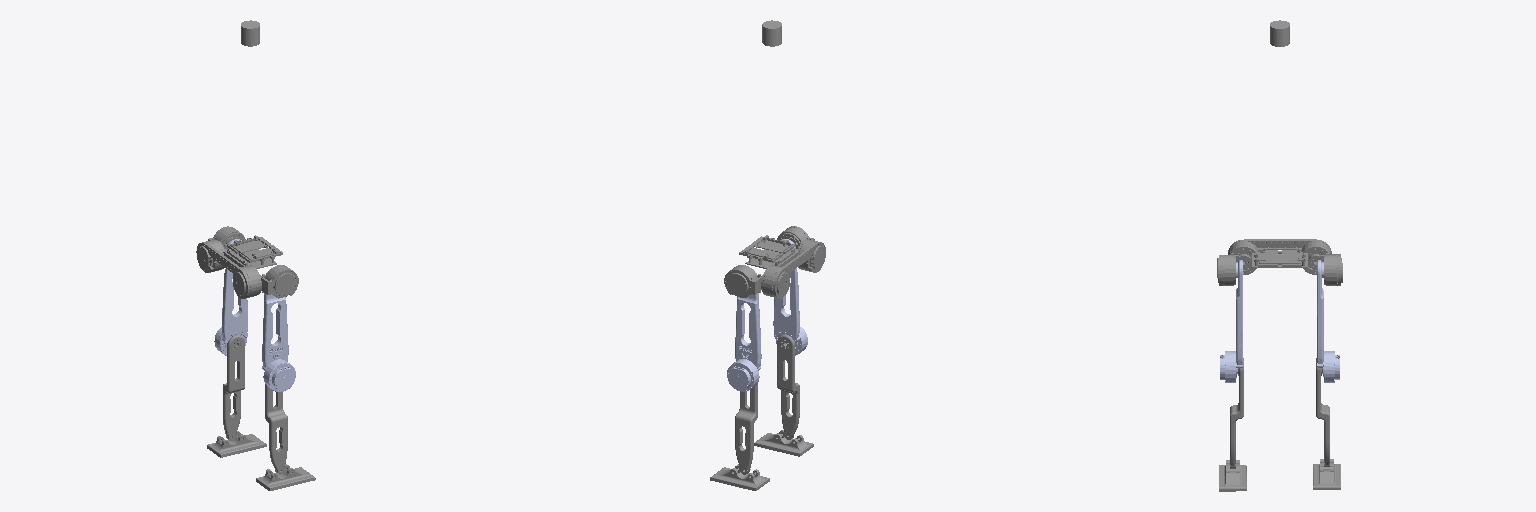
The robot description file, URDF, robot "onshape":
<robot name="onshape">
  <link name="assembled_base">
    <visual>
      <origin xyz="0 0 0" rpy="0 -0 0" />
      <geometry>
        <mesh filename="../meshes/assembled_base.stl"/>
      </geometry>
      <material name="assembled_base_material">
        <color rgba="0.62745098039215685404 0.62745098039215685404 0.62745098039215685404 1.0"/>
      </material>
    </visual>
    <collision>
      <origin xyz="0 0 0" rpy="0 -0 0" />
      <geometry>
        <!-- <mesh filename="../meshes/assembled_base.stl"/> -->
        <box size="0.2 0.1 0.1"/>
      </geometry>
    </collision>
    <inertial>
      <origin xyz="-0.049856134971238051656 -0.00017975093297010582617 -0.012053466787614769071" rpy="0 0 0"/>
      <mass value="1.2750789266545345946" />
      <inertia ixx="0.0093561396750067183509" ixy="2.5170719498942932795e-05" ixz="-0.00029179742923617036851" iyy="0.0017119096464284844824" iyz="-3.7813300202946274525e-06" izz="0.0098753910433889216525" />
    </inertial>
  </link>

  <link name="additional_weight">
    <visual>
      <origin xyz="-6.9388939039072283776e-18 -8.4703294725430033907e-22 -0.050000000000000266454" rpy="3.141592653589793116 -0 0" />
      <geometry>
        <mesh filename="../meshes/additional_weight.stl"/>
      </geometry>
      <material name="additional_weight_material">
        <color rgba="0.64705882352941179736 0.64705882352941179736 0.64705882352941179736 1.0"/>
      </material>
    </visual>
    <collision>
      <origin xyz="-6.9388939039072283776e-18 -8.4703294725430033907e-22 -0.050000000000000266454" rpy="3.141592653589793116 -0 0" />
      <geometry>
        <mesh filename="../meshes/additional_weight.stl"/>
      </geometry>
    </collision>
    <inertial>
      <origin xyz="-5.7190546223683737574e-18 -8.470329472542528491e-22 -0.025000000000000022204" rpy="0 0 0"/>
      <mass value="0.79579314812178392202" />
      <inertia ixx="0.00029130794056903707876" ixy="0" ixz="0" iyy="0.00029130794056903707876" iyz="0" izz="0.00025103540275399723785" />
    </inertial>
  </link>

  <joint name="additional_weight_joint" type="fixed">
    <origin xyz="0.0017373457116546199477 4.8047933443529507216e-06 0.60299999999999998046" rpy="-3.141592653589793116 -1.6568748037485875154e-19 -2.0219008759515637583e-35" />
    <parent link="assembled_base" />
    <child link="additional_weight" />
    <axis xyz="0 0 1"/>
    <limit effort="40" velocity="7" />
    <joint_properties friction="0.0"/>
  </joint>

  <link name="left_hip_roll_assembled_link">
    <visual>
      <origin xyz="-1.3877787807814456755e-17 -2.7755575615628913511e-17 0" rpy="2.2841213229054533402e-20 4.3368086899419994397e-19 9.8607613152626497572e-32" />
      <geometry>
        <mesh filename="../meshes/left_hip_roll_assembled_link.stl"/>
      </geometry>
      <material name="left_hip_roll_assembled_link_material">
        <color rgba="0.62745098039215685404 0.62745098039215685404 0.62745098039215685404 1.0"/>
      </material>
    </visual>
    <collision>
      <origin xyz="-1.3877787807814456755e-17 -2.7755575615628913511e-17 0" rpy="2.2841213229054533402e-20 4.3368086899419994397e-19 9.8607613152626497572e-32" />
      <geometry>
        <mesh filename="../meshes/left_hip_roll_assembled_link.stl"/>
      </geometry>
    </collision>
    <inertial>
      <origin xyz="-0.038199108326162301008 0.00055603061731506766251 -0.049872228042224388267" rpy="0 0 0"/>
      <mass value="0.53489494813292881581" />
      <inertia ixx="0.00052969452284193396015" ixy="3.26180324706647247e-06" ixz="-5.8674863193901638839e-05" iyy="0.00044896593371919973165" iyz="1.6739468731426171244e-06" izz="0.00030547079016642378867" />
    </inertial>
  </link>

  <link name="left_thigh_assembled_link">
    <visual>
      <origin xyz="-1.7347234759768070944e-17 0 9.8532293435482642963e-16" rpy="0 -5.0389663808307754041e-19 8.2718061255302785854e-25" />
      <geometry>
        <mesh filename="../meshes/left_thigh_assembled_link.stl"/>
      </geometry>
      <material name="left_thigh_assembled_link_material">
        <color rgba="0.79215686274509800047 0.81960784313725487671 0.93333333333333334814 1.0"/>
      </material>
    </visual>
    <collision>
      <origin xyz="-1.7347234759768070944e-17 0 9.8532293435482642963e-16" rpy="0 -5.0389663808307754041e-19 8.2718061255302785854e-25" />
      <geometry>
        <mesh filename="../meshes/left_thigh_assembled_link.stl"/>
      </geometry>
    </collision>
    <inertial>
      <origin xyz="-0.00071215583978635863156 0.18551885792314248835 1.7552695534359159536e-05" rpy="0 0 0"/>
      <mass value="0.3804247757723297485" />
      <inertia ixx="0.0034227563688772068805" ixy="-8.0243175043628227008e-06" ixz="-2.8600536926204267421e-06" iyy="0.00022462832370740977266" iyz="-0.00032454380195049608096" izz="0.0035001644173184090492" />
    </inertial>
  </link>

  <link name="left_shin">
    <visual>
      <origin xyz="-6.9388939039072283776e-18 5.5511151231257827021e-17 -2.7755575615628913511e-17" rpy="-3.141592653589793116 7.0215672787891816785e-20 -4.0325054861960106497e-24" />
      <geometry>
        <mesh filename="../meshes/left_shin.stl"/>
      </geometry>
      <material name="left_shin_material">
        <color rgba="0.62745098039215685404 0.62745098039215685404 0.62745098039215685404 1.0"/>
      </material>
    </visual>
    <collision>
      <origin xyz="-6.9388939039072283776e-18 5.5511151231257827021e-17 -2.7755575615628913511e-17" rpy="-3.141592653589793116 7.0215672787891816785e-20 -4.0325054861960106497e-24" />
      <geometry>
        <mesh filename="../meshes/left_shin.stl"/>
      </geometry>
    </collision>
    <inertial>
      <origin xyz="-0.00027860297896301457546 -0.12257037293542828726 -0.0023367562260510972745" rpy="0 0 0"/>
      <mass value="0.18385415329439019905" />
      <inertia ixx="0.0011911868638529135751" ixy="-5.8844952216253818683e-06" ixz="-5.5717279343409244683e-07" iyy="6.0811306287211696025e-05" iyz="-0.00012578436368043246292" izz="0.0012070183815175716813" />
    </inertial>
  </link>

  <link name="left_foot">
    <visual>
      <origin xyz="0 -1.1102230246251565404e-16 2.7755575615628913511e-17" rpy="-3.3881317890172021086e-21 -6.2128193301782472105e-19 9.1506855263678701226e-24" />
      <geometry>
        <mesh filename="../meshes/left_foot.stl"/>
      </geometry>
      <material name="left_foot_material">
        <color rgba="0.62745098039215685404 0.62745098039215685404 0.62745098039215685404 1.0"/>
      </material>
    </visual>
    <collision>
      <origin xyz="0 -1.1102230246251565404e-16 2.7755575615628913511e-17" rpy="-3.3881317890172021086e-21 -6.2128193301782472105e-19 9.1506855263678701226e-24" />
      <geometry>
        <mesh filename="../meshes/left_foot.stl"/>
      </geometry>
    </collision>
    <inertial>
      <origin xyz="0.015187537197783738258 0.026002543054757576435 -0.00034050842926946741154" rpy="0 0 0"/>
      <mass value="0.14503328474795140757" />
      <inertia ixx="5.3255271906336900788e-05" ixy="-2.8142667452324447518e-06" ixz="9.3713679863158629659e-08" iyy="0.0002335908613945323817" iyz="1.9366104052540332956e-07" izz="0.0001950516649632677308" />
    </inertial>
  </link>

  <joint name="left_ankle_joint" type="revolute">
    <origin xyz="-0.0032963899599866147705 -0.26680321649979094056 -0.012956114963095885506" rpy="-3.1415926535897926719 -2.7346502719546166981e-16 3.8824481999271071847e-12" />
    <parent link="left_shin" />
    <child link="left_foot" />
    <axis xyz="0 0 1"/>
    <limit effort="40" velocity="7" lower="-0.52359877559829881566" upper="0.52359877559829881566"/>
    <joint_properties friction="0.0"/>
  </joint>

  <joint name="left_knee_joint" type="revolute">
    <origin xyz="-1.1791795445987435231e-05 0.26696937369610784785 -0.0055469999999987473771" rpy="-3.141592653589793116 6.0211425091664846854e-17 2.8257782194518543241e-21" />
    <parent link="left_thigh_assembled_link" />
    <child link="left_shin" />
    <axis xyz="0 0 1"/>
    <limit effort="40" velocity="7" lower="-0.87266462599716476678" upper="-0"/>
    <joint_properties friction="0.0"/>
  </joint>

  <joint name="left_hip_pitch_joint" type="revolute">
    <origin xyz="-0.020714482720959506712 -1.2195219323100914277e-06 -0.056302758297119864794" rpy="-3.1415746391819041605 1.5707963265842519451 0" />
    <parent link="left_hip_roll_assembled_link" />
    <child link="left_thigh_assembled_link" />
    <axis xyz="0 0 1"/>
    <limit effort="40" velocity="7" lower="-1.570796326794896558" upper="0.34906585039886589561"/>
    <joint_properties friction="0.0"/>
  </joint>

  <joint name="left_hip_roll_joint" type="revolute">
    <origin xyz="-0.041193597110977836495 0.089887544641074693108 -0.018310449527667391895" rpy="1.570796326794896558 -8.3266726846886681367e-16 -1.5680307395761954314" />
    <parent link="assembled_base" />
    <child link="left_hip_roll_assembled_link" />
    <axis xyz="0 0 1"/>
    <limit effort="40" velocity="7" lower="-0.26179938779914940783" upper="0.26179938779914940783"/>
    <joint_properties friction="0.0"/>
  </joint>

  <link name="right_hip_roll_assembled_link">
    <visual>
      <origin xyz="0 2.7755575615628913511e-17 0" rpy="7.2572312814300634511e-21 -2.6123619456511818528e-33 0" />
      <geometry>
        <mesh filename="../meshes/right_hip_roll_assembled_link.stl"/>
      </geometry>
      <material name="right_hip_roll_assembled_link_material">
        <color rgba="0.62745098039215685404 0.62745098039215685404 0.62745098039215685404 1.0"/>
      </material>
    </visual>
    <collision>
      <origin xyz="0 2.7755575615628913511e-17 0" rpy="7.2572312814300634511e-21 -2.6123619456511818528e-33 0" />
      <geometry>
        <mesh filename="../meshes/right_hip_roll_assembled_link.stl"/>
      </geometry>
    </collision>
    <inertial>
      <origin xyz="0.038199490336614662367 0.00055715423494521532696 -0.049969831391157862321" rpy="0 0 0"/>
      <mass value="0.53488105014710873863" />
      <inertia ixx="0.00053032850976867838225" ixy="-3.2670105505230184529e-06" ixz="5.8680153731445583551e-05" iyy="0.00044960376460740047707" iyz="2.1242914106338632407e-06" izz="0.00030546201872424670522" />
    </inertial>
  </link>

  <link name="right_thigh_assembled_link">
    <visual>
      <origin xyz="1.0408340855860842566e-17 2.4286128663675299322e-17 1.9428902930940239457e-16" rpy="3.3881317890172021086e-21 -2.3672414068765584227e-19 7.0560768072760710352e-24" />
      <geometry>
        <mesh filename="../meshes/right_thigh_assembled_link.stl"/>
      </geometry>
      <material name="right_thigh_assembled_link_material">
        <color rgba="0.79215686274509800047 0.81960784313725487671 0.93333333333333334814 1.0"/>
      </material>
    </visual>
    <collision>
      <origin xyz="1.0408340855860842566e-17 2.4286128663675299322e-17 1.9428902930940239457e-16" rpy="3.3881317890172021086e-21 -2.3672414068765584227e-19 7.0560768072760710352e-24" />
      <geometry>
        <mesh filename="../meshes/right_thigh_assembled_link.stl"/>
      </geometry>
    </collision>
    <inertial>
      <origin xyz="0.0007479706777348325928 -0.18551907050709309788 1.7546215448078449604e-05" rpy="0 0 0"/>
      <mass value="0.38042405171223225846" />
      <inertia ixx="0.0034227356035838180093" ixy="-7.4069946641123797775e-06" ixz="2.7974117379069971705e-06" iyy="0.00022462525406527009543" iyz="0.00032454443982513655857" izz="0.0035001405354723497294" />
    </inertial>
  </link>

  <link name="right_shin">
    <visual>
      <origin xyz="-6.9388939039072283776e-18 0 2.0816681711721685133e-16" rpy="-3.141592653589793116 -1.9695672135929445808e-19 1.5218830801268595112e-24" />
      <geometry>
        <mesh filename="../meshes/right_shin.stl"/>
      </geometry>
      <material name="right_shin_material">
        <color rgba="0.62745098039215685404 0.62745098039215685404 0.62745098039215685404 1.0"/>
      </material>
    </visual>
    <collision>
      <origin xyz="-6.9388939039072283776e-18 0 2.0816681711721685133e-16" rpy="-3.141592653589793116 -1.9695672135929445808e-19 1.5218830801268595112e-24" />
      <geometry>
        <mesh filename="../meshes/right_shin.stl"/>
      </geometry>
    </collision>
    <inertial>
      <origin xyz="0.00030226339259873649581 0.12257031691862123324 -0.0023367562129040955581" rpy="0 0 0"/>
      <mass value="0.18385415284334485908" />
      <inertia ixx="0.0011911845485189510429" ixy="-6.1026977045558477582e-06" ixz="5.8145360851608830142e-07" iyy="6.0813620228559065535e-05" iyz="0.00012578425382340395955" izz="0.0012070183800956654687" />
    </inertial>
  </link>

  <link name="right_foot">
    <visual>
      <origin xyz="0 -1.1102230246251565404e-16 1.3877787807814456755e-17" rpy="3.141592653589793116 1.064318367664878442e-18 -3.5215760551024649889e-24" />
      <geometry>
        <mesh filename="../meshes/right_foot.stl"/>
      </geometry>
      <material name="right_foot_material">
        <color rgba="0.62745098039215685404 0.62745098039215685404 0.62745098039215685404 1.0"/>
      </material>
    </visual>
    <collision>
      <origin xyz="0 -1.1102230246251565404e-16 1.3877787807814456755e-17" rpy="3.141592653589793116 1.064318367664878442e-18 -3.5215760551024649889e-24" />
      <geometry>
        <mesh filename="../meshes/right_foot.stl"/>
      </geometry>
    </collision>
    <inertial>
      <origin xyz="0.015187537190500212045 -0.026002543053895942754 0.00034050843220780990621" rpy="0 0 0"/>
      <mass value="0.14503328477161644972" />
      <inertia ixx="5.3255271913745654032e-05" ixy="2.8142667506415899532e-06" ixz="-9.3713660243795205391e-08" iyy="0.0002335908614515599523" iyz="1.936610380705449885e-07" izz="0.00019505166501422423002" />
    </inertial>
  </link>

  <joint name="right_ankle_joint" type="revolute">
    <origin xyz="0.0033478924446542577403 0.26680257520792799442 -0.01295611496309617694" rpy="3.141592653589793116 2.7996088473986045116e-16 2.0021163556764444259e-24" />
    <parent link="right_shin" />
    <child link="right_foot" />
    <axis xyz="0 0 1"/>
    <limit effort="40" velocity="7" lower="-0.52359877559829881566" upper="0.52359877559829881566"/>
    <joint_properties friction="0.0"/>
  </joint>

  <joint name="right_knee_joint" type="revolute">
    <origin xyz="6.3326415581058115301e-05 -0.26696936644585766985 -0.0055469999999988583994" rpy="-3.141592653589793116 -2.1487086728401866803e-17 2.3825871257081570997e-24" />
    <parent link="right_thigh_assembled_link" />
    <child link="right_shin" />
    <axis xyz="0 0 1"/>
    <limit effort="40" velocity="7" lower="-0" upper="0.87266462599716476678"/>
    <joint_properties friction="0.0"/>
  </joint>

  <joint name="right_hip_pitch_joint" type="revolute">
    <origin xyz="0.020714482720954302541 1.219252338362231125e-06 -0.056297241554987526024" rpy="1.8014408059877152129e-05 1.5707963267916837946 0" />
    <parent link="right_hip_roll_assembled_link" />
    <child link="right_thigh_assembled_link" />
    <axis xyz="0 0 1"/>
    <limit effort="40" velocity="7" lower="-0.34906585039886589561" upper="1.570796326794896558"/>
    <joint_properties friction="0.0"/>
  </joint>

  <joint name="right_hip_roll_joint" type="revolute">
    <origin xyz="-0.040695792046267699471 -0.090111766967618897595 -0.018307206934415617278" rpy="1.570796326794896558 9.7189651803362053343e-16 -1.5680307395761954314" />
    <parent link="assembled_base" />
    <child link="right_hip_roll_assembled_link" />
    <axis xyz="0 0 1"/>
    <limit effort="40" velocity="7" lower="-0.26179938779914940783" upper="0.26179938779914940783"/>
    <joint_properties friction="0.0"/>
  </joint>


</robot>

--- What the picture shows (computed from the rendered views, not written in the file) ---
3 views of the same robot in one strip: view 1: azimuth 30°, elevation 25°; view 2: azimuth 150°, elevation 25°; view 3: azimuth 270°, elevation 25° (orthographic).
Model onshape with 10 links and 9 joints (8 revolute, 1 fixed), rooted at assembled_base, posed all joints at 0.
Links seen in each view (by area): view 1: assembled_base, right_thigh_assembled_link, left_shin, left_thigh_assembled_link, right_shin, right_hip_roll_assembled_link, right_foot, left_foot; view 2: assembled_base, left_thigh_assembled_link, right_shin, right_thigh_assembled_link, left_shin, left_hip_roll_assembled_link, right_foot, left_foot; view 3: assembled_base, right_thigh_assembled_link, left_thigh_assembled_link, right_foot, left_foot, left_hip_roll_assembled_link, right_hip_roll_assembled_link, right_shin, left_shin.
Link boxes in pixels (left/top/right/bottom): assembled_base: left=196, top=235, right=282, bottom=298; right_thigh_assembled_link: left=262, top=272, right=295, bottom=391; left_shin: left=223, top=335, right=244, bottom=440; left_thigh_assembled_link: left=214, top=239, right=247, bottom=355; right_shin: left=265, top=384, right=287, bottom=474; right_hip_roll_assembled_link: left=260, top=265, right=298, bottom=298; right_foot: left=256, top=464, right=315, bottom=490; left_foot: left=207, top=431, right=266, bottom=457; assembled_base: left=739, top=235, right=825, bottom=298; left_thigh_assembled_link: left=727, top=269, right=761, bottom=391; right_shin: left=777, top=334, right=799, bottom=439; right_thigh_assembled_link: left=773, top=239, right=807, bottom=355; left_shin: left=735, top=384, right=757, bottom=474; left_hip_roll_assembled_link: left=724, top=265, right=762, bottom=297; right_foot: left=754, top=430, right=813, bottom=456; left_foot: left=710, top=464, right=769, bottom=490; assembled_base: left=1228, top=239, right=1331, bottom=274; right_thigh_assembled_link: left=1220, top=260, right=1242, bottom=382; left_thigh_assembled_link: left=1317, top=260, right=1339, bottom=382; right_foot: left=1219, top=460, right=1246, bottom=491; left_foot: left=1313, top=459, right=1340, bottom=489; left_hip_roll_assembled_link: left=1308, top=253, right=1342, bottom=285; right_hip_roll_assembled_link: left=1217, top=253, right=1251, bottom=285; right_shin: left=1230, top=358, right=1243, bottom=468; left_shin: left=1316, top=358, right=1329, bottom=466.
Bounding box of the posed robot: 0.1907 × 0.3126 × 1.24 m (x, y, z).
10 mesh visuals loaded from 10 distinct referenced files (10 binary STL).